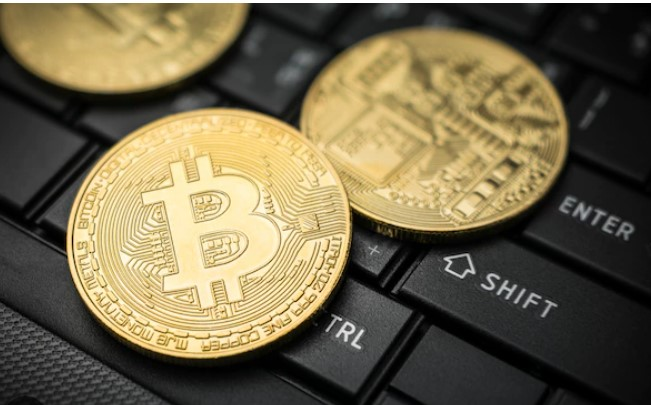coin: (67, 108, 353, 361), (298, 26, 569, 234), (2, 1, 248, 95)
